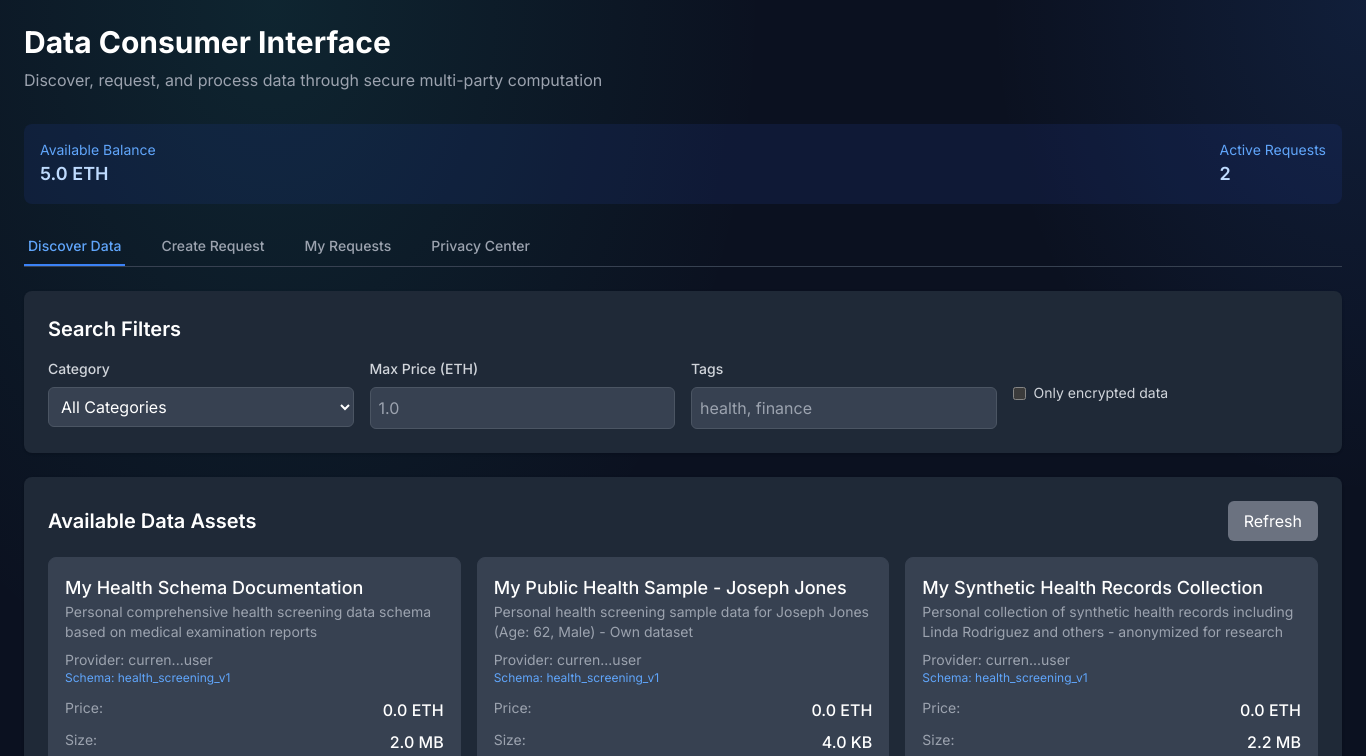
Test case: DataConsumerInterface › displays request status correctly in my requests tab
The width and height of the screenshot is (1366, 756).
Switch to My Requests tab
Click the button "My Requests". click: {"x": 348, "y": 247}
box: [300, 228, 395, 266]
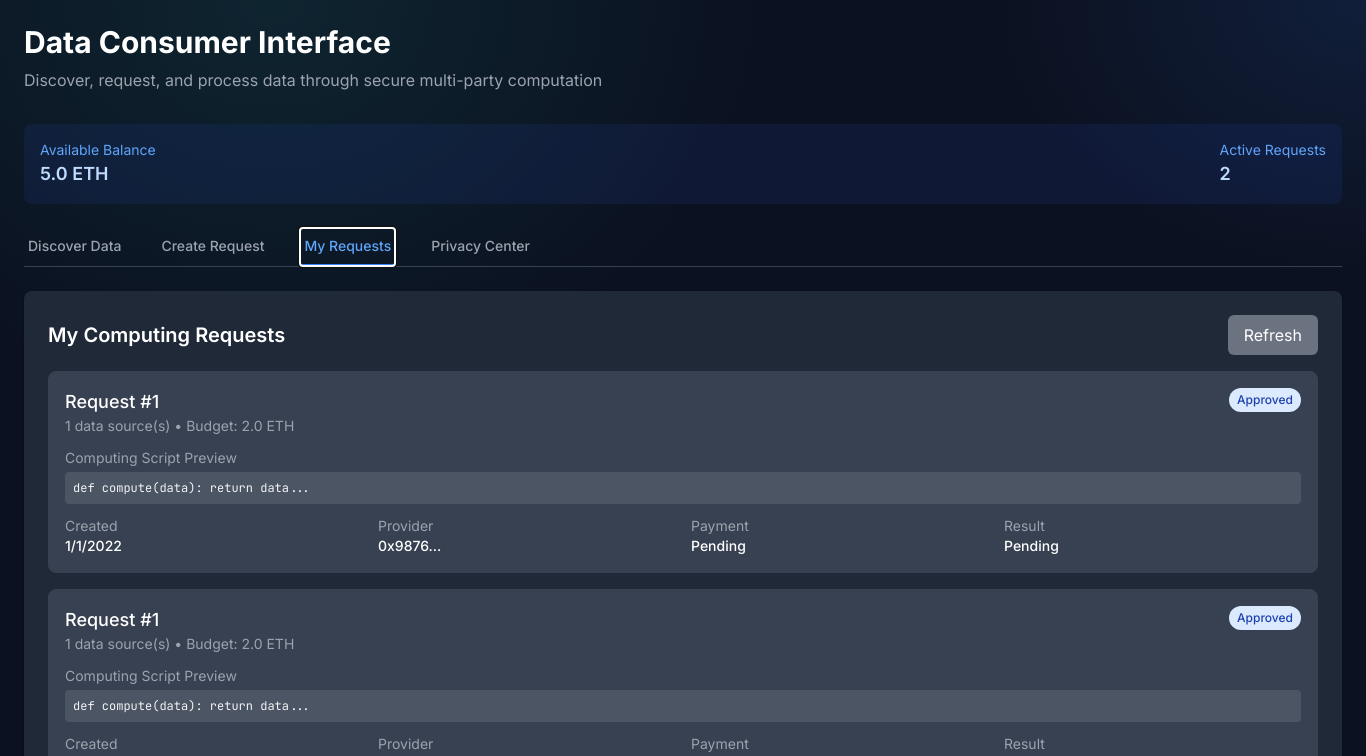
Expected: the heading "My Computing Requests" is shown, [48, 321, 285, 349]
